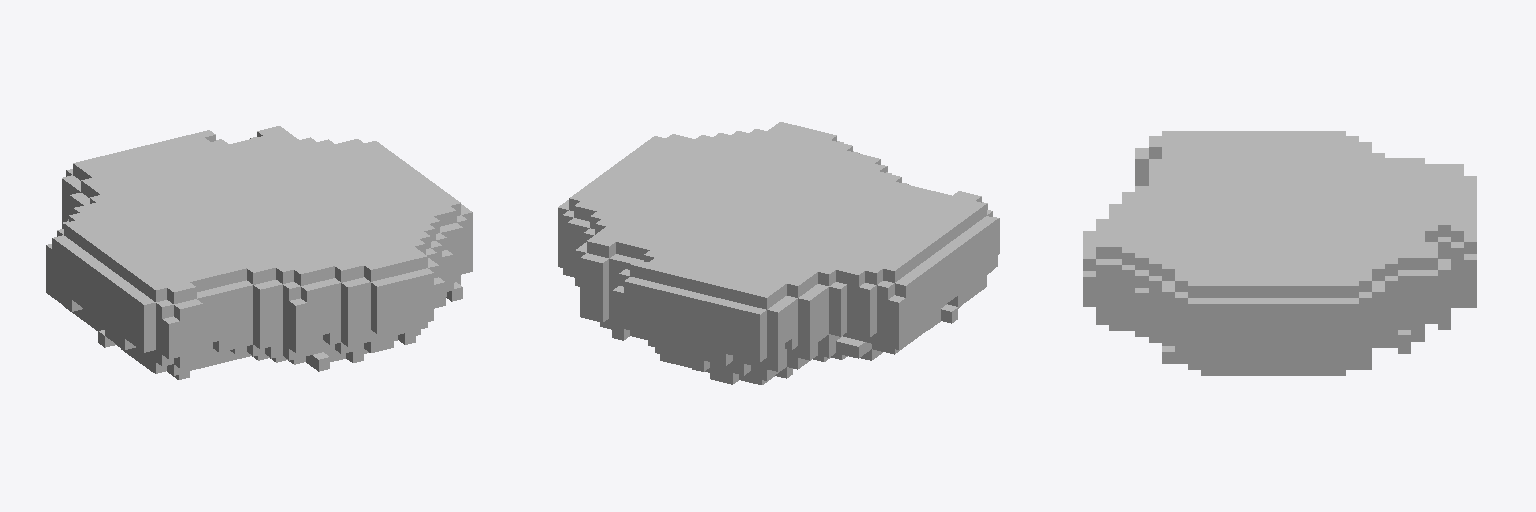
The model's file is ground15_3.obj.
The picture shows the model from 3 angles: view 1: azimuth 30°, elevation 25°; view 2: azimuth 150°, elevation 25°; view 3: azimuth 270°, elevation 25°; orthographic projection.
Visible parts, largest first — view 1: ObjObject.016; view 2: ObjObject.016; view 3: ObjObject.016.
Boxes of the visible parts, <box> form: ObjObject.016: <box>46,126,472,379</box>; ObjObject.016: <box>558,122,999,384</box>; ObjObject.016: <box>1083,131,1476,375</box>.
Bounding box in the file's own units: 3 × 0.8 × 3.